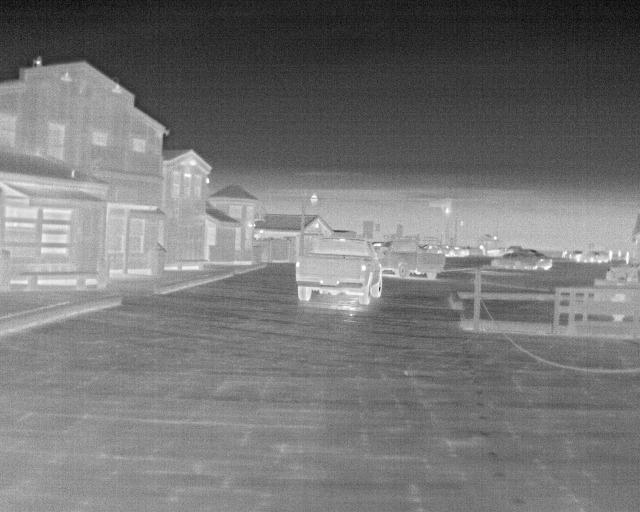car: (291, 234, 385, 309), (369, 236, 448, 281), (485, 249, 538, 273), (445, 244, 471, 259), (536, 252, 554, 272)
